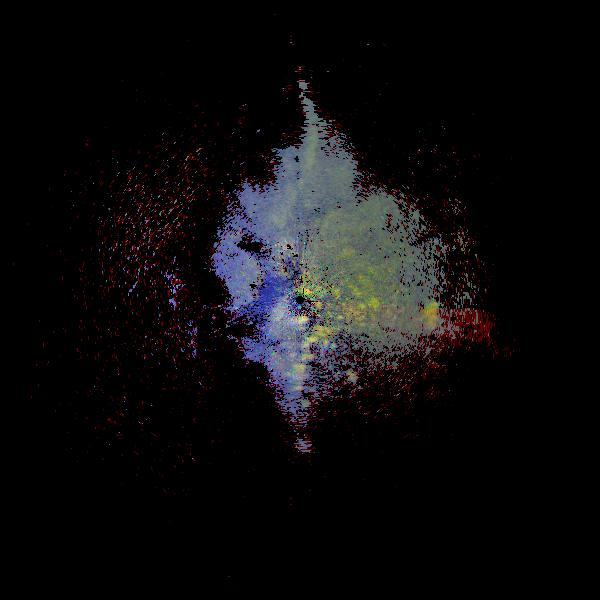roost: (270, 354, 315, 399)
